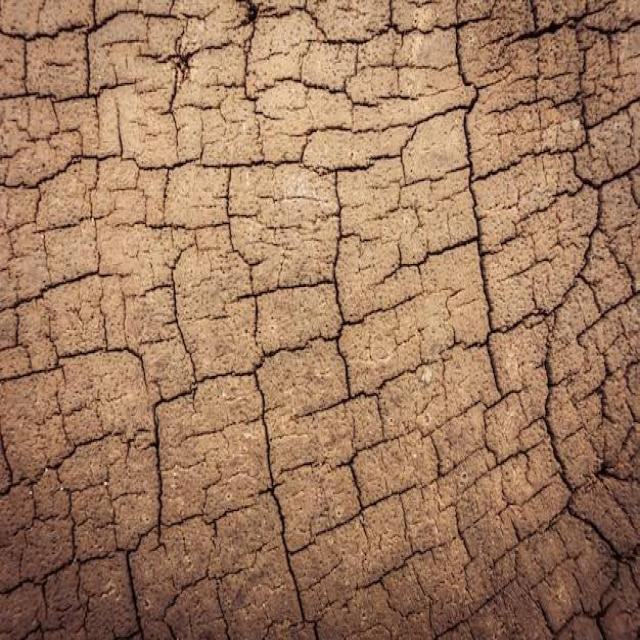suelo_compacto: (170, 136, 458, 505)
